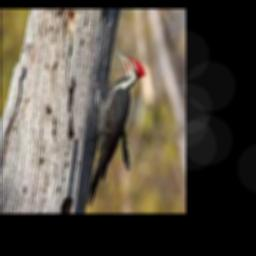Woodpecker: (87, 47, 146, 206)
